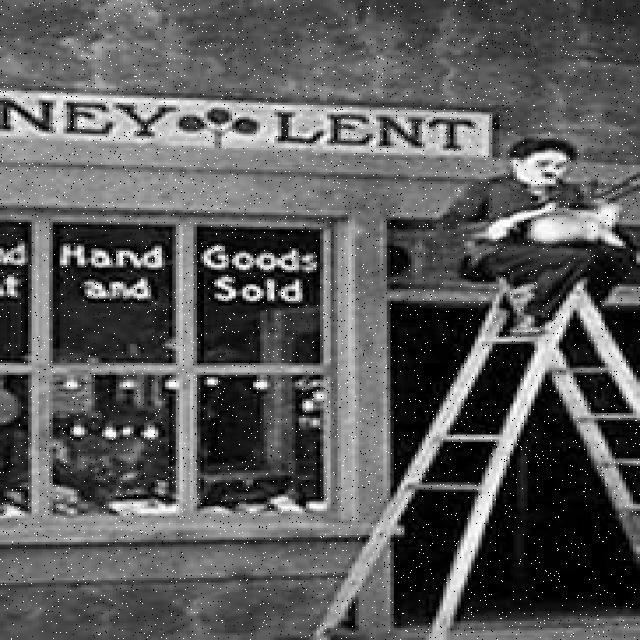picture: (0, 2, 640, 638)
